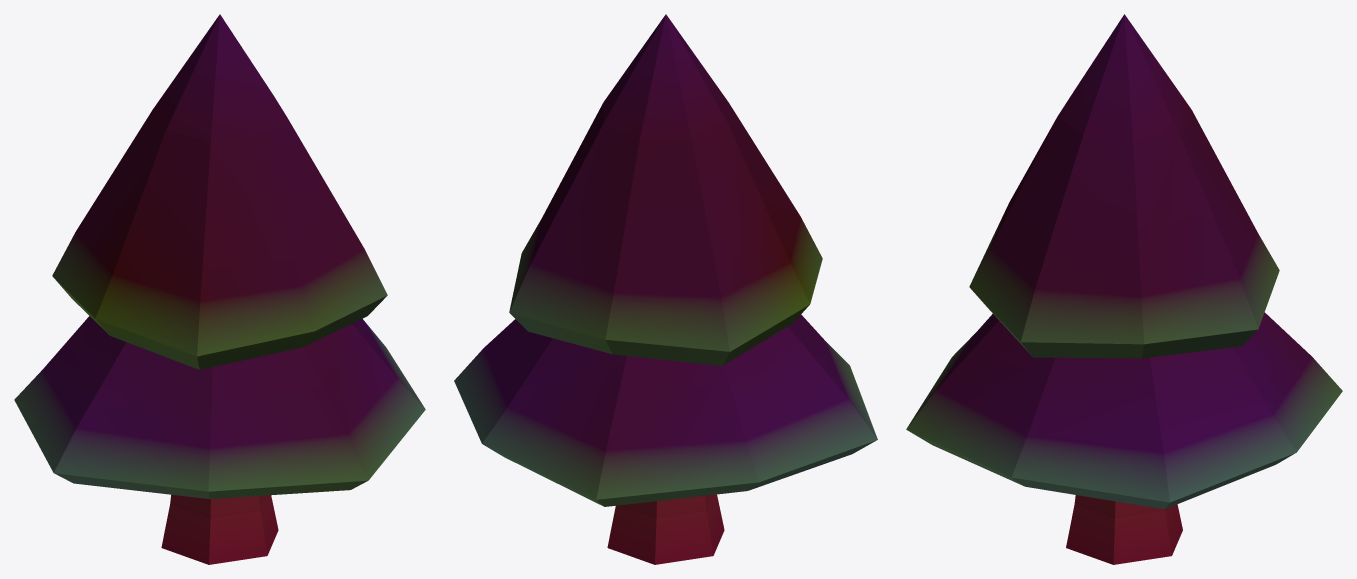
File: Tree_Pine_Small_01.glb
The picture shows the model from 3 angles, left to right: view 1: azimuth 30°, elevation 25°; view 2: azimuth 150°, elevation 25°; view 3: azimuth 270°, elevation 25°; orthographic projection.
Visible parts, largest first — view 1: Tree_Pine_Small_01; view 2: Tree_Pine_Small_01; view 3: Tree_Pine_Small_01.
Boxes of the visible parts, x1,y1,x2,y2 form: Tree_Pine_Small_01: (14, 14, 425, 564); Tree_Pine_Small_01: (454, 14, 877, 564); Tree_Pine_Small_01: (906, 14, 1342, 564).
Bounding box in the file's own units: 1.77 × 2.35 × 1.77.
